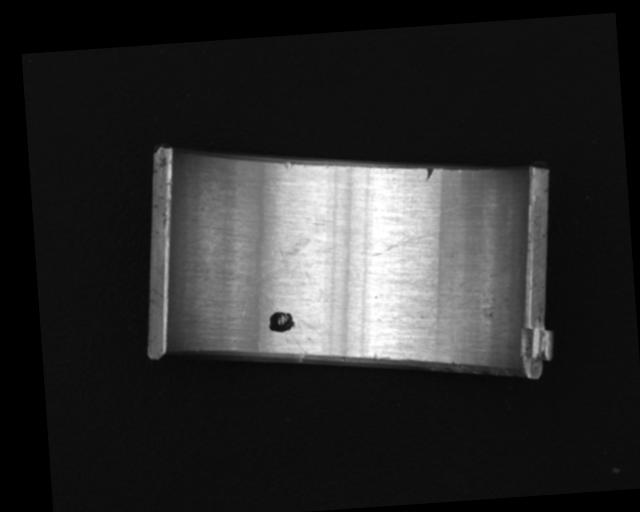blot: (256, 236, 315, 288), (266, 309, 296, 334)
bruise: (423, 167, 435, 182), (282, 160, 292, 169)
